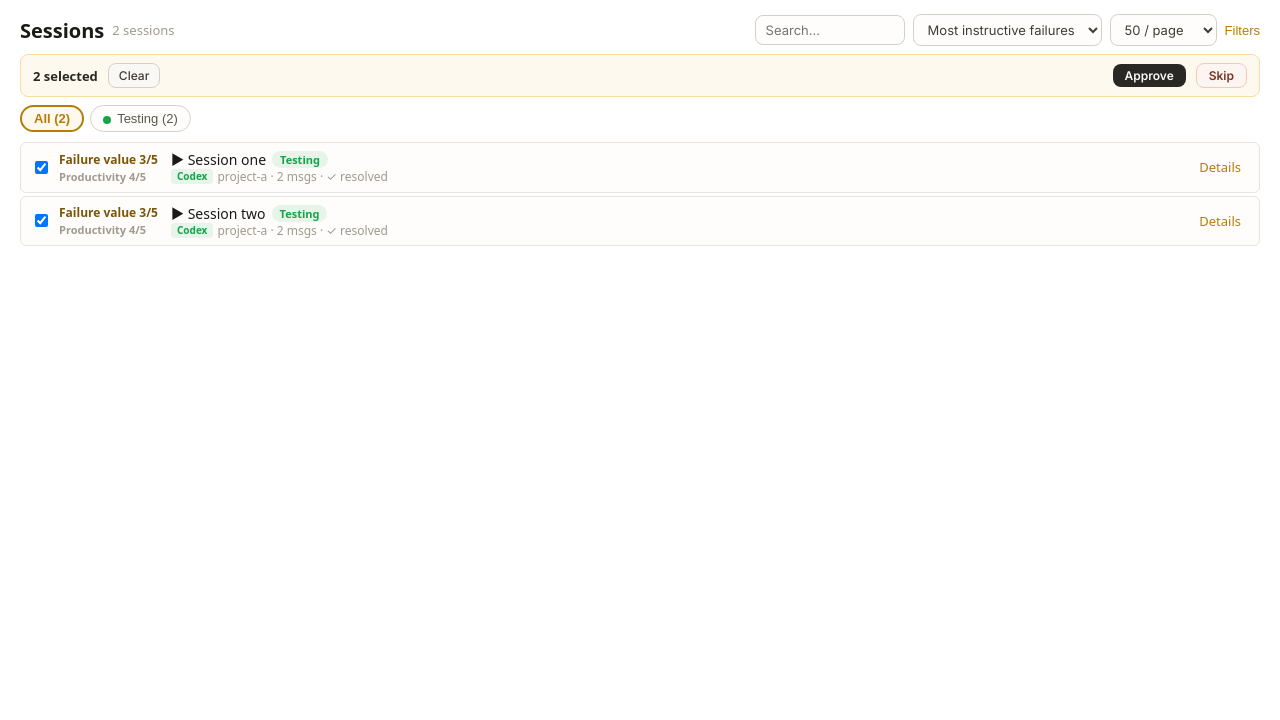
Test: Inbox bulk status updates › keeps the submitted sessions selected when the request fails
Expected: the checkbox named "Select session: Session one" is shown, [35,161,48,174]
Step 1. Click the button "Approve" → (1149, 76), box [1112,64,1186,87]
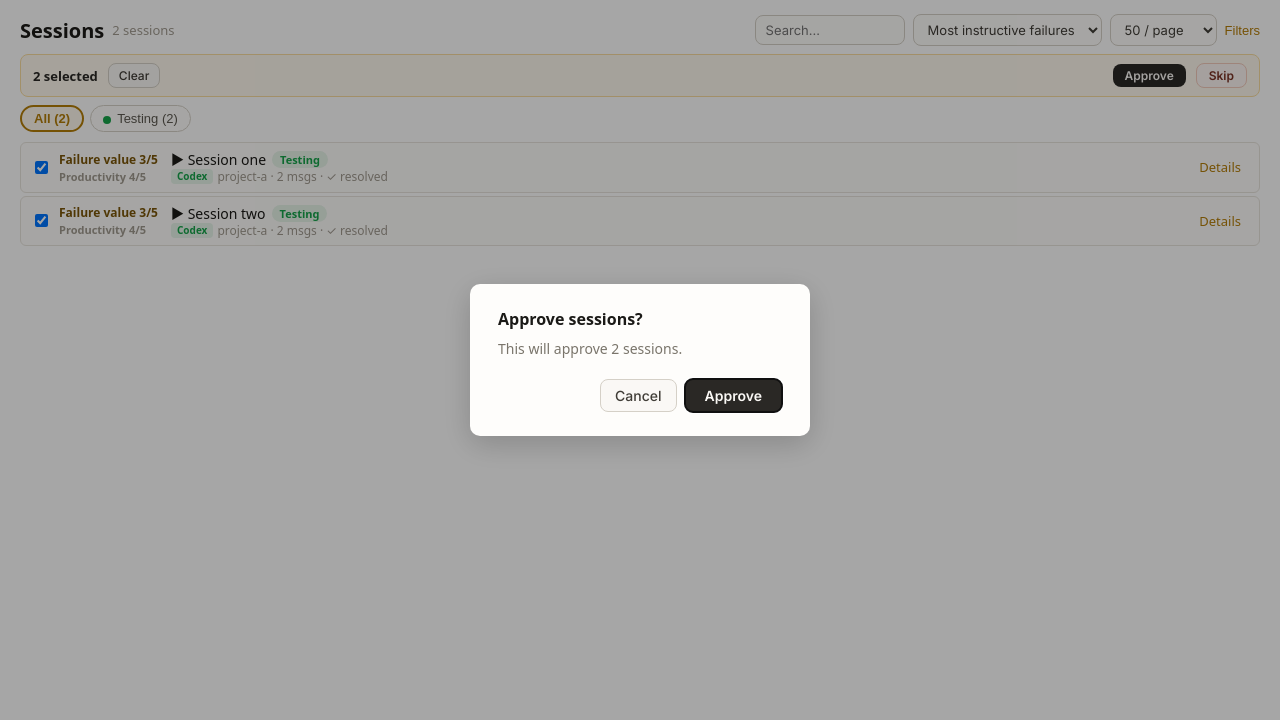
Step 2. Click the button "Approve" → (733, 396), box [685,379,782,412]
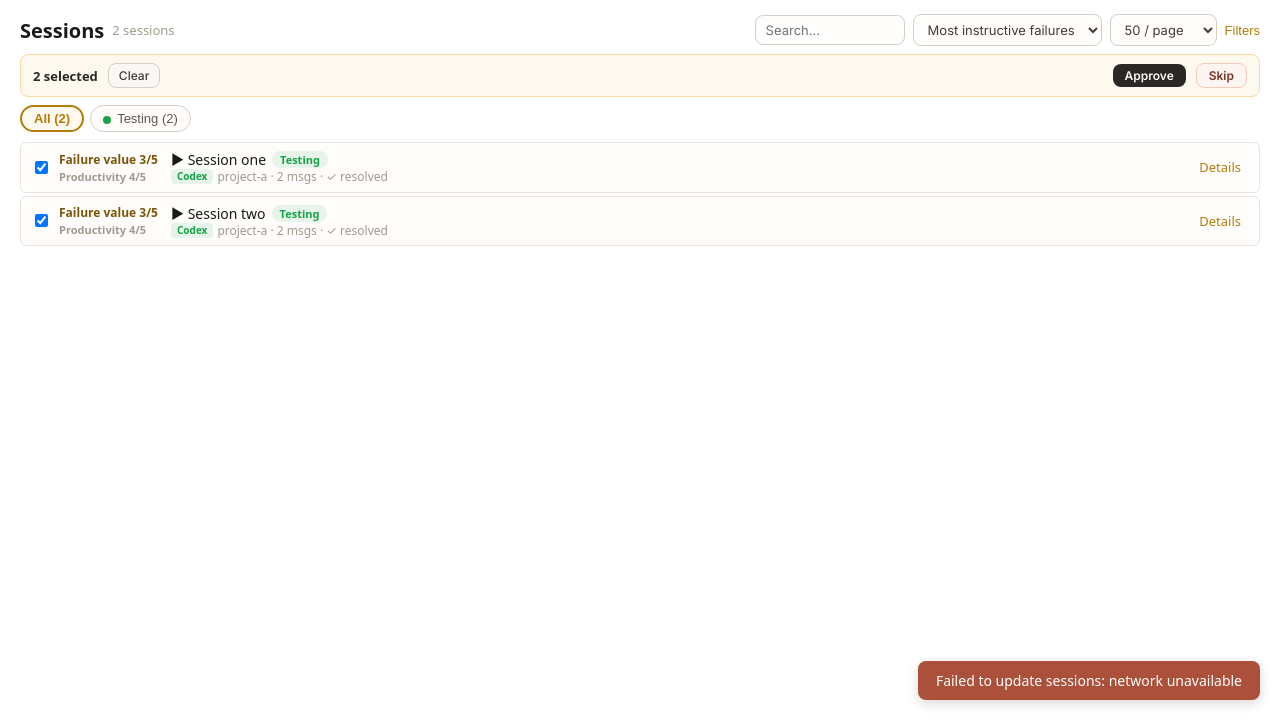
Expected: the checkbox named "Select session: Session one" is checked, [35,161,48,174]
Now the text "Failed to update sessions: network unavailable" is shown, box [918,661,1260,700]
